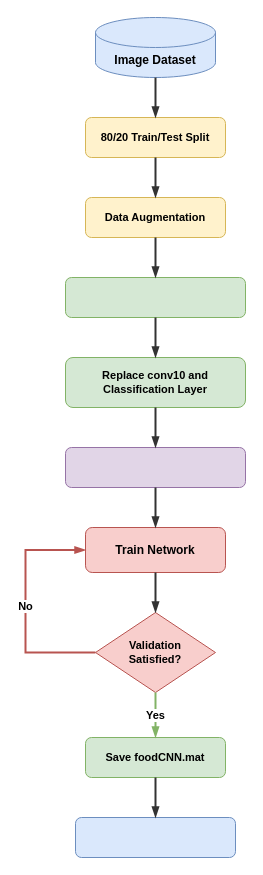
The diagram is 263 pixels wide and 875 high, and some of its shapes have lost their labels. The shapes that lost their labels are listed below. From the top down, each one's centre as x and y in pixels, then its label:
At (155,297): "Load Pre-trained SqueezeNet".
At (155,467): "Set SGDM Hyperparameters".
At (155,837): "Final Test Set Evaluation".
